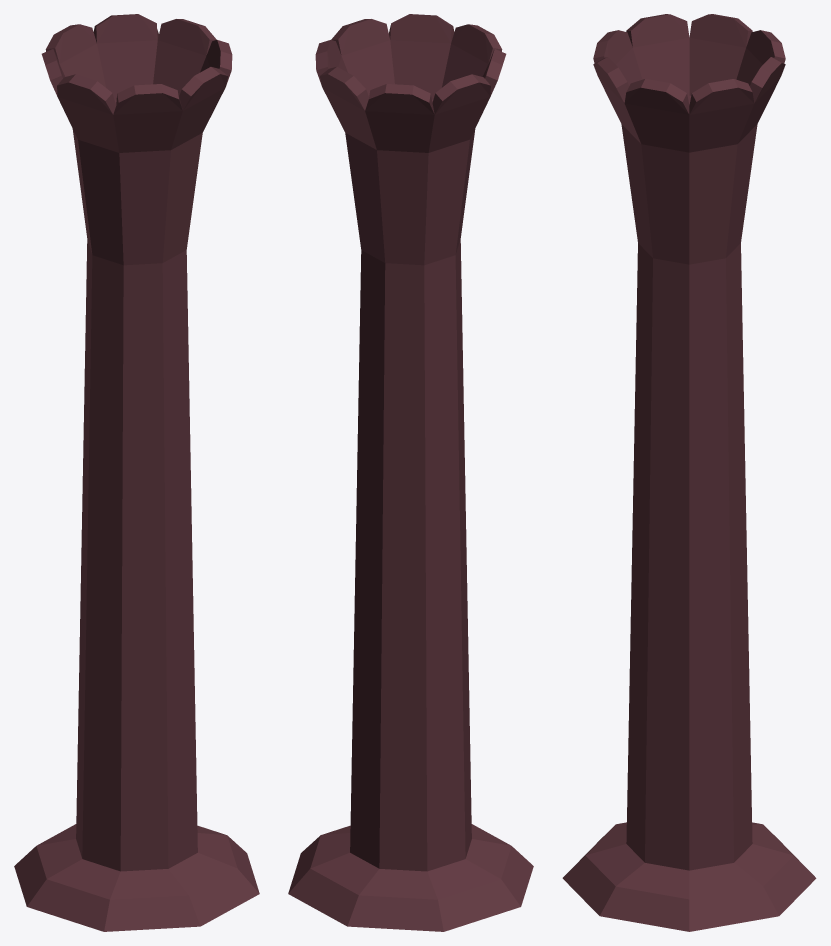
The model's file is egypt-pillar-palm.fbx.
3 views of the same model, side by side, from view 1: azimuth 30°, elevation 25°; view 2: azimuth 150°, elevation 25°; view 3: azimuth 270°, elevation 25° (orthographic).
Visible parts, largest first — view 1: pilar-palm; view 2: pilar-palm; view 3: pilar-palm.
Boxes of the visible parts, x1,y1,x2,y2 form: pilar-palm: (14,14,259,931); pilar-palm: (288,14,533,931); pilar-palm: (562,14,816,931).
Size of the model in its own units: 2.5 by 9 by 2.5.
